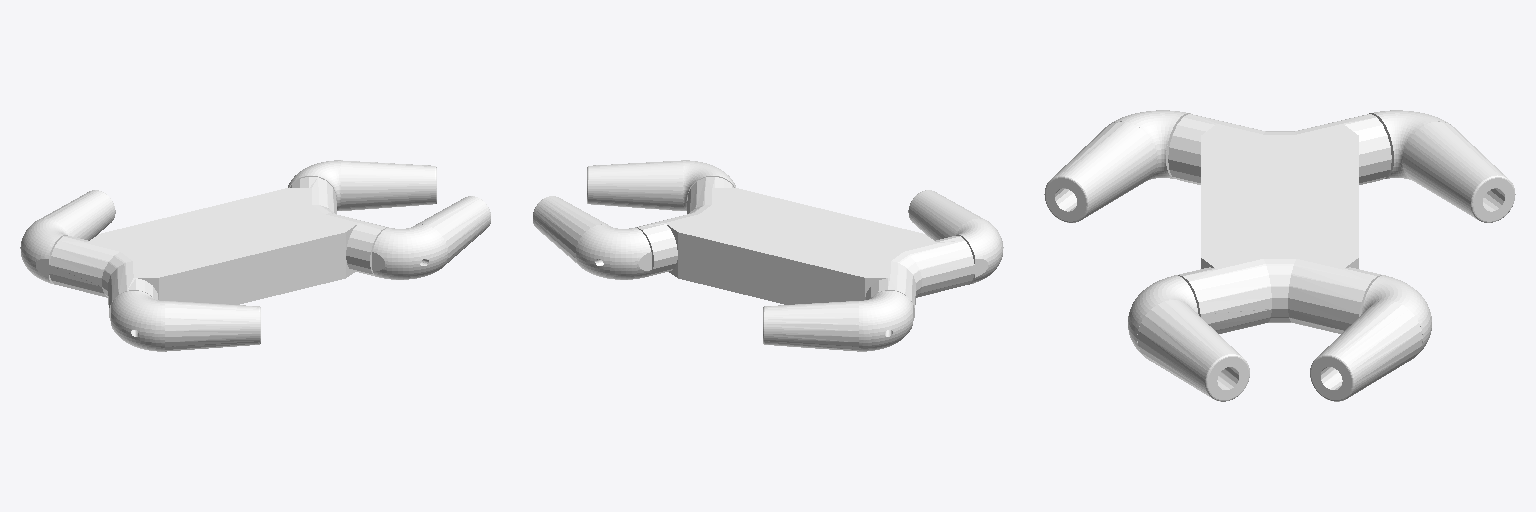
robot.urdf — 29_degree:
<?xml version="1.0" encoding="utf-8"?>
<!-- This URDF was automatically created by SolidWorks to URDF Exporter! Originally created by [author] ([email redacted]) 
     Commit Version: 1.5.1-0-g916b5db  Build Version: 1.5.7152.31018
     For more information, please see http://wiki.ros.org/sw_urdf_exporter -->
<robot
  name="29_degree">
  <link
    name="base_link">
    <inertial>
      <origin
        xyz="6.9389E-18 5.3543E-08 3.4685E-08"
        rpy="0 0 0" />
      <mass
        value="2.942" />
      <inertia
        ixx="0.0092846"
        ixy="2.0444E-08"
        ixz="-1.5203E-10"
        iyy="0.0491402"
        iyz="-4.1341E-18"
        izz="0.0559820" />
    </inertial>
    <visual>
      <origin
        xyz="0 0 0"
        rpy="0 0 0" />
      <geometry>
        <mesh
          filename="package://29_degree/meshes/base_link.STL" />
      </geometry>
      <material
        name="">
        <color
          rgba="1 1 1 1" />
      </material>
    </visual>
    <collision>
      <origin
        xyz="0 0 0"
        rpy="0 0 0" />
      <geometry>
        <mesh
          filename="package://29_degree/meshes/base_link.STL" />
      </geometry>
    </collision>
  </link>
  <link
    name="left_front_link">
    <inertial>
      <origin
        xyz="-8.9111E-08 0.067166 -0.0039417"
        rpy="0 0 0" />
      <mass
        value="0.092" />
      <inertia
        ixx="0.0002604"
        ixy="3.4822E-10"
        ixz="4.7365E-10"
        iyy="0.0000815"
        iyz="-0.0000749"
        izz="0.0002286" />
    </inertial>
    <visual>
      <origin
        xyz="0 0 0"
        rpy="0 0 0" />
      <geometry>
        <mesh
          filename="package://29_degree/meshes/left_front_link.STL" />
      </geometry>
      <material
        name="">
        <color
          rgba="1 1 1 1" />
      </material>
    </visual>
    <collision>
      <origin
        xyz="0 0 0"
        rpy="0 0 0" />
      <geometry>
        <mesh
          filename="package://29_degree/meshes/left_front_link.STL" />
      </geometry>
    </collision>
  </link>
  <joint
    name="left_front_leg"
    type="continuous">
    <origin
      xyz="0.17994 0.090086 0"
      rpy="1.5708 1.5708 0" />
    <parent
      link="base_link" />
    <child
      link="left_front_link" />
    <axis
      xyz="0 0.48481 -0.87462" />
    <limit
      effort="5"
      velocity="487" />
  </joint>
  <link
    name="right_front_link">
    <inertial>
      <origin
        xyz="8.9111E-08 0.067166 0.0039417"
        rpy="0 0 0" />
      <mass
        value="0.092" />
      <inertia
        ixx="0.0002604"
        ixy="-3.4822E-10"
        ixz="4.7365E-10"
        iyy="0.0000815"
        iyz="0.0000749"
        izz="0.0002286" />
    </inertial>
    <visual>
      <origin
        xyz="0 0 0"
        rpy="0 0 0" />
      <geometry>
        <mesh
          filename="package://29_degree/meshes/right_front_link.STL" />
      </geometry>
      <material
        name="">
        <color
          rgba="1 1 1 1" />
      </material>
    </visual>
    <collision>
      <origin
        xyz="0 0 0"
        rpy="0 0 0" />
      <geometry>
        <mesh
          filename="package://29_degree/meshes/right_front_link.STL" />
      </geometry>
    </collision>
  </link>
  <joint
    name="right_front_leg"
    type="continuous">
    <origin
      xyz="0.17994 -0.090086 0"
      rpy="1.5708 1.5708 0" />
    <parent
      link="base_link" />
    <child
      link="right_front_link" />
    <axis
      xyz="0 0.48481 0.87462" />
    <limit
      effort="5"
      velocity="487" />
  </joint>
  <link
    name="right_back_link">
    <inertial>
      <origin
        xyz="8.1346E-08 0.056834 0.03601"
        rpy="0 0 0" />
      <mass
        value="0.092" />
      <inertia
        ixx="0.0002604"
        ixy="-4.494E-10"
        ixz="6.0154E-10"
        iyy="0.0000526"
        iyz="-2.27E-05"
        izz="0.0002575" />
    </inertial>
    <visual>
      <origin
        xyz="0 0 0"
        rpy="0 0 0" />
      <geometry>
        <mesh
          filename="package://29_degree/meshes/right_back_link.STL" />
      </geometry>
      <material
        name="">
        <color
          rgba="1 1 1 1" />
      </material>
    </visual>
    <collision>
      <origin
        xyz="0 0 0"
        rpy="0 0 0" />
      <geometry>
        <mesh
          filename="package://29_degree/meshes/right_back_link.STL" />
      </geometry>
    </collision>
  </link>
  <joint
    name="right_back_leg"
    type="continuous">
    <origin
      xyz="-0.17994 -0.090086 0"
      rpy="-2.6354 1.5708 1.5708" />
    <parent
      link="base_link" />
    <child
      link="right_back_link" />
    <axis
      xyz="0 0 1" />
    <limit
      effort="5"
      velocity="487" />
  </joint>
  <link
    name="left_back_link">
    <inertial>
      <origin
        xyz="-8.1346E-08 0.03225 -0.059049"
        rpy="0 0 0" />
      <mass
        value="0.092" />
      <inertia
        ixx="0.0002604"
        ixy="6.8468E-10"
        ixz="3.0824E-10"
        iyy="0.0001200"
        iyz="0.0000989"
        izz="0.0001901" />
    </inertial>
    <visual>
      <origin
        xyz="0 0 0"
        rpy="0 0 0" />
      <geometry>
        <mesh
          filename="package://29_degree/meshes/left_back_link.STL" />
      </geometry>
      <material
        name="">
        <color
          rgba="1 1 1 1" />
      </material>
    </visual>
    <collision>
      <origin
        xyz="0 0 0"
        rpy="0 0 0" />
      <geometry>
        <mesh
          filename="package://29_degree/meshes/left_back_link.STL" />
      </geometry>
    </collision>
  </link>
  <joint
    name="left_back_leg"
    type="continuous">
    <origin
      xyz="-0.17994 0.090086 0"
      rpy="1.5708 1.5708 0" />
    <parent
      link="base_link" />
    <child
      link="left_back_link" />
    <axis
      xyz="0 -0.48481 -0.87462" />
    <limit
      effort="5"
      velocity="487" />
  </joint>
</robot>

--- Facts derived from the render (not from the file) ---
Views: 3 orthographic renders of the robot side by side, from view 1: azimuth 30°, elevation 25°; view 2: azimuth 150°, elevation 25°; view 3: azimuth 270°, elevation 25°.
Robot: 29_degree — 5 links, 4 joints (4 continuous); root link base_link; default pose: every joint at zero.
Links seen in each view (by area): view 1: base_link, right_back_link, right_front_link, left_front_link, left_back_link; view 2: base_link, left_back_link, left_front_link, right_front_link, right_back_link; view 3: base_link, left_front_link, right_back_link, left_back_link, right_front_link.
Boxes of the visible links, <box> form: base_link: <box>49,177,388,320</box>; right_back_link: <box>111,291,260,351</box>; right_front_link: <box>372,196,490,279</box>; left_front_link: <box>288,160,436,210</box>; left_back_link: <box>20,190,115,284</box>; base_link: <box>635,177,974,320</box>; left_back_link: <box>763,291,912,351</box>; left_front_link: <box>533,196,651,279</box>; right_front_link: <box>587,160,735,210</box>; right_back_link: <box>908,190,1003,284</box>; base_link: <box>1168,114,1391,333</box>; left_front_link: <box>1310,275,1431,401</box>; right_back_link: <box>1044,110,1190,222</box>; left_back_link: <box>1369,110,1515,222</box>; right_front_link: <box>1128,275,1249,401</box>.
Size in the robot's own frame: 0.5664 by 0.4445 by 0.064 metres.
Meshes: 5 distinct files referenced, 5 mesh visuals loaded (5 binary STL).